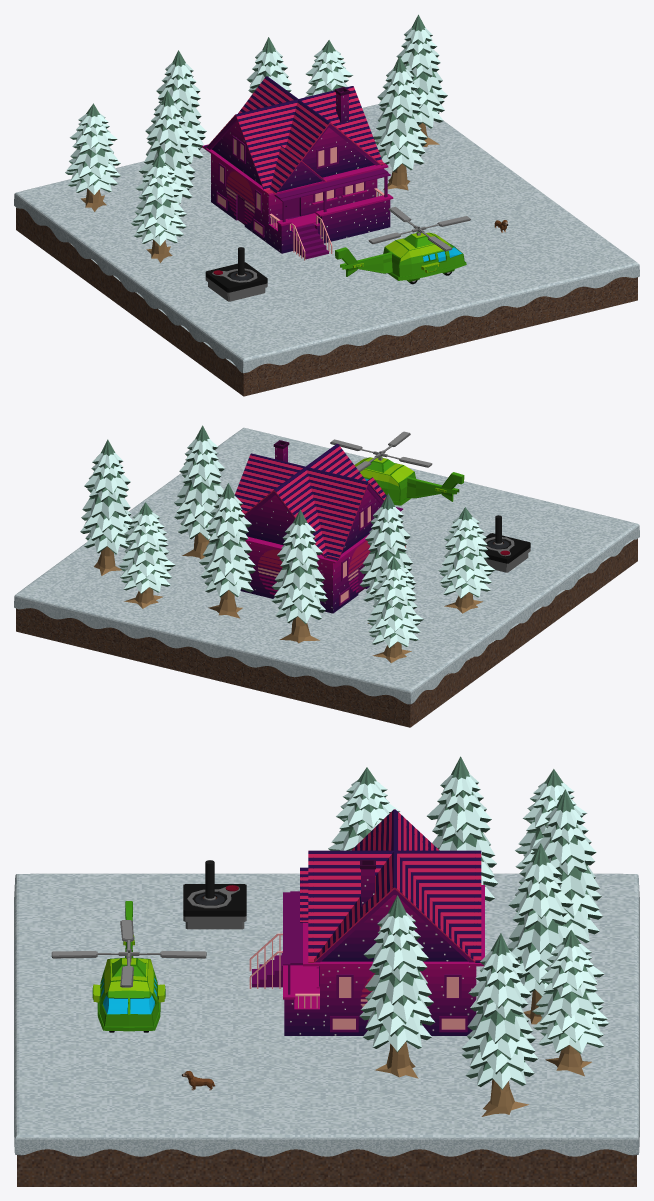
3 views of the same model, one above another, from view 1: azimuth 30°, elevation 25°; view 2: azimuth 150°, elevation 25°; view 3: azimuth 270°, elevation 25° (orthographic). The views are drawn at different scales.
Visible parts, largest first — view 1: Cube.003, Cube.156, VEHICLES_HELICOPTER, OBJRANDOM_JOYSTICK; view 2: Cube.003, Cube.156, VEHICLES_HELICOPTER, OBJRANDOM_JOYSTICK; view 3: Cube.003, Cube.156, VEHICLES_HELICOPTER, OBJRANDOM_JOYSTICK.
Boxes of the visible parts, x1,y1,x2,y2 form: Cube.003: (14, 14, 639, 396); Cube.156: (202, 76, 393, 260); VEHICLES_HELICOPTER: (335, 206, 470, 284); OBJRANDOM_JOYSTICK: (205, 247, 267, 301); Cube.003: (14, 425, 639, 727); Cube.156: (235, 440, 405, 613); VEHICLES_HELICOPTER: (330, 431, 464, 505); OBJRANDOM_JOYSTICK: (484, 515, 530, 572); Cube.003: (14, 756, 639, 1186); Cube.156: (249, 809, 484, 1035); VEHICLES_HELICOPTER: (51, 901, 206, 1032); OBJRANDOM_JOYSTICK: (183, 860, 246, 929).
Bounding box in the file's own units: 4040 × 1844 × 4040.
35 materials, 5 textured.
